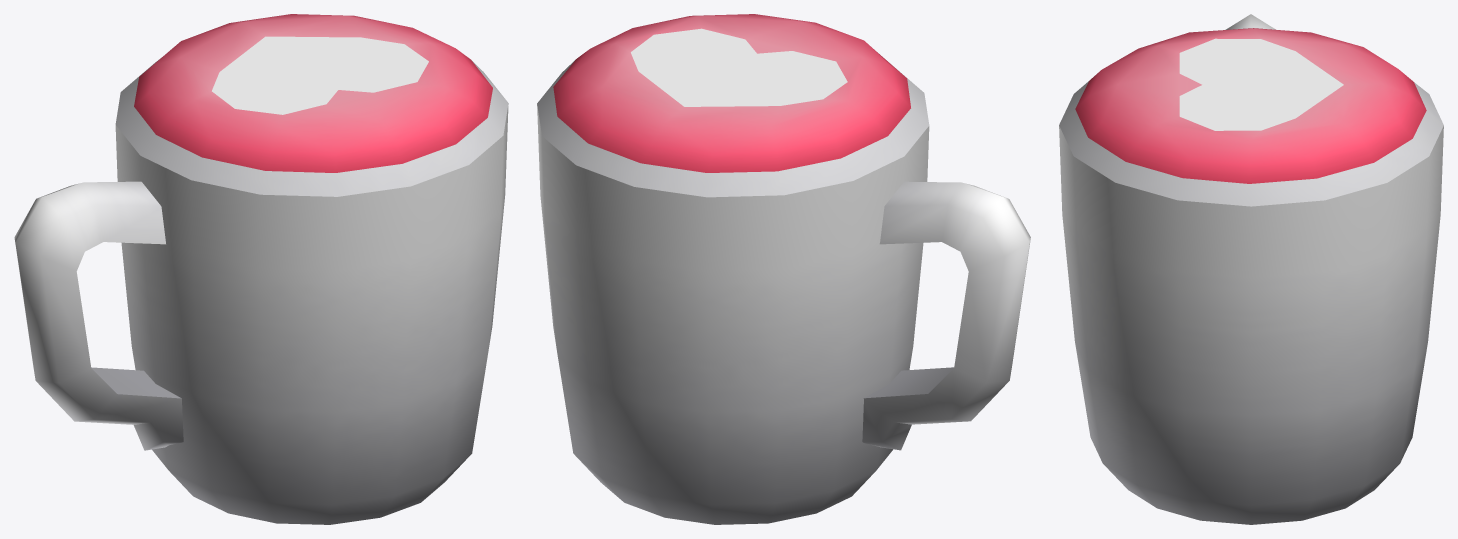
Rendered from m_Mug01_Pink02.fbx.
The picture shows the model from 3 angles, left to right: view 1: azimuth 30°, elevation 25°; view 2: azimuth 150°, elevation 25°; view 3: azimuth 270°, elevation 25°; orthographic projection. The views are drawn at different scales.
Parts seen in each view (by area): view 1: m_Mug01_Pink02; view 2: m_Mug01_Pink02; view 3: m_Mug01_Pink02.
Part boxes in pixels (<box>): m_Mug01_Pink02: <box>14,14,508,524</box>; m_Mug01_Pink02: <box>537,14,1030,524</box>; m_Mug01_Pink02: <box>1059,14,1443,524</box>.
Size of the model in its own units: 15.22 by 12.3 by 11.16.
